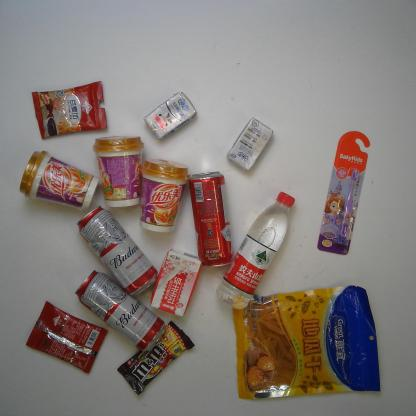Alcohol: (73, 268, 166, 356), (76, 205, 158, 298), (187, 170, 235, 270)
Chocolate: (116, 320, 197, 396)
Dried Fruit: (229, 282, 383, 401)
Drink: (215, 192, 296, 311)
Instant Drink: (24, 300, 110, 374), (18, 149, 100, 211), (30, 78, 109, 142), (136, 156, 192, 236), (92, 133, 146, 209)
Milk: (148, 246, 205, 319), (142, 90, 198, 143), (225, 117, 275, 173)
Personal Hygiene: (315, 130, 372, 256)
